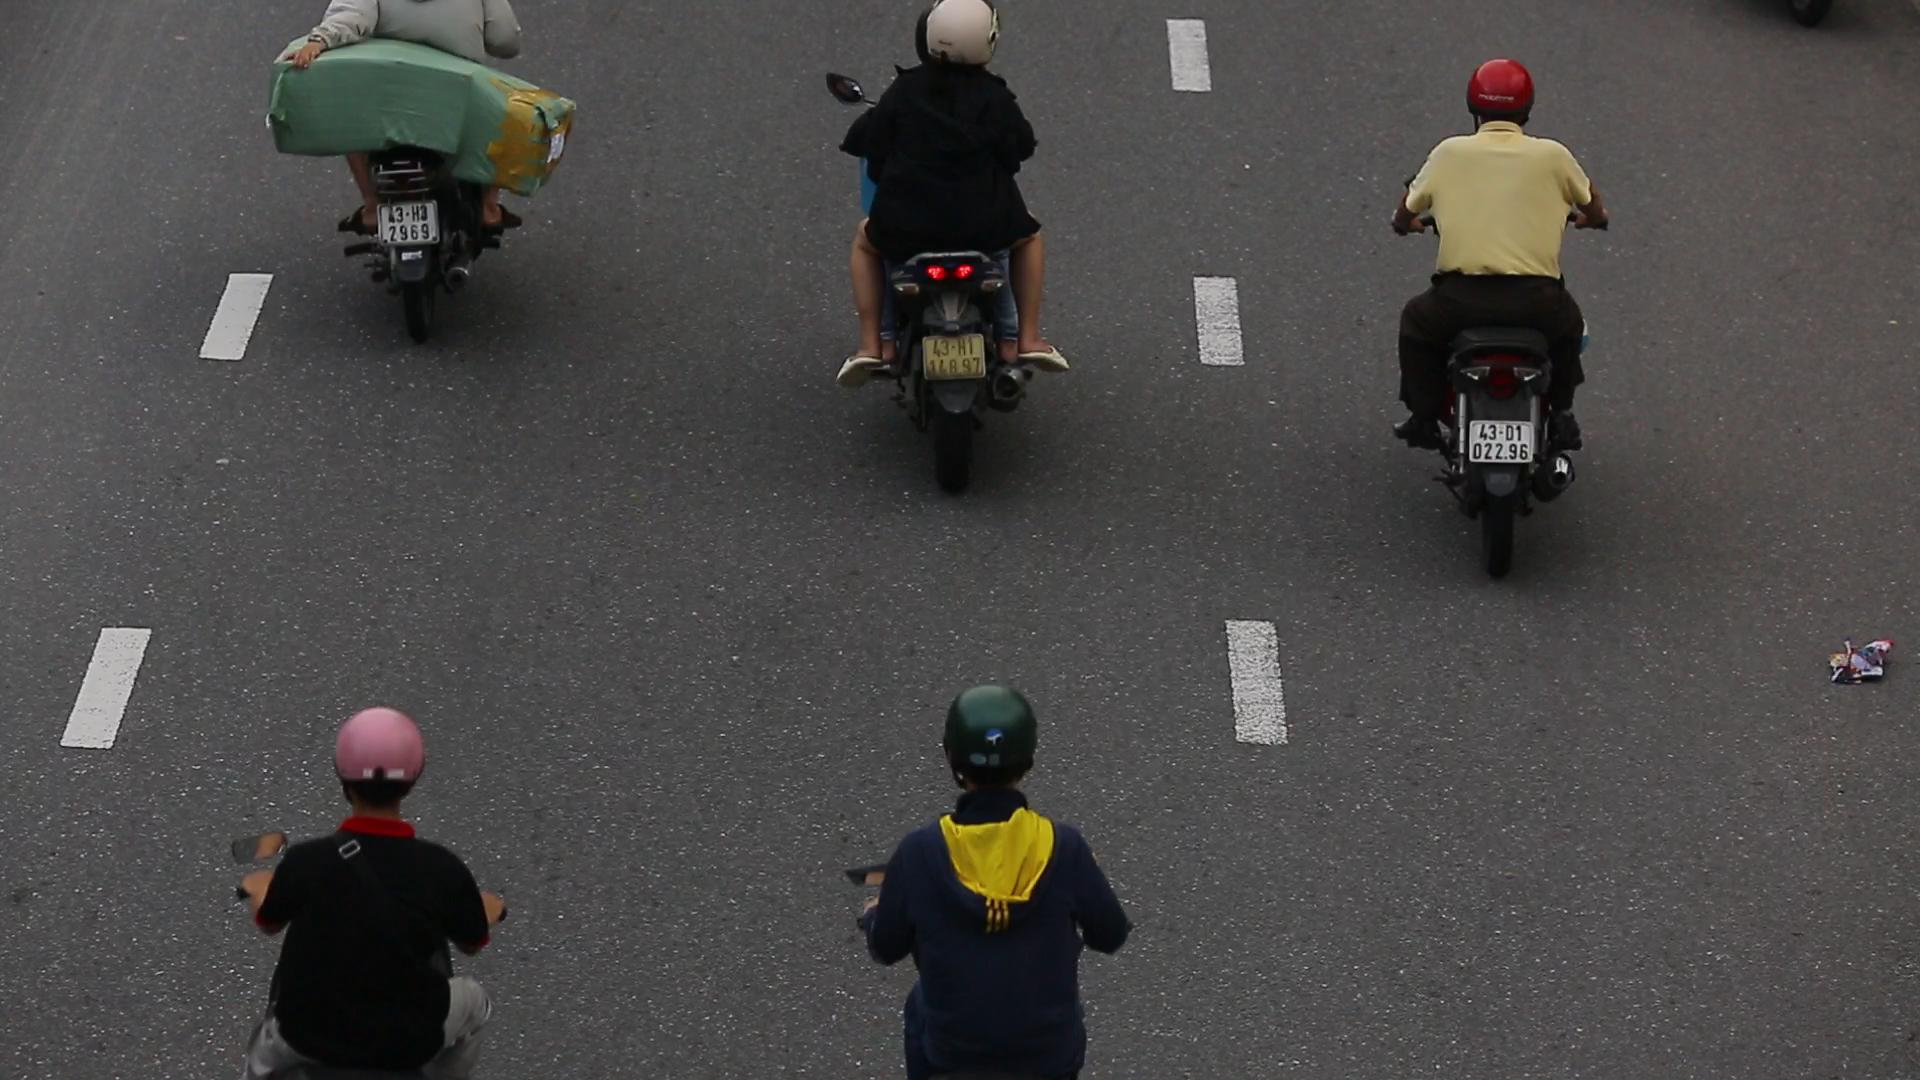motobike: (1377, 32, 1626, 588), (808, 4, 1085, 500)
